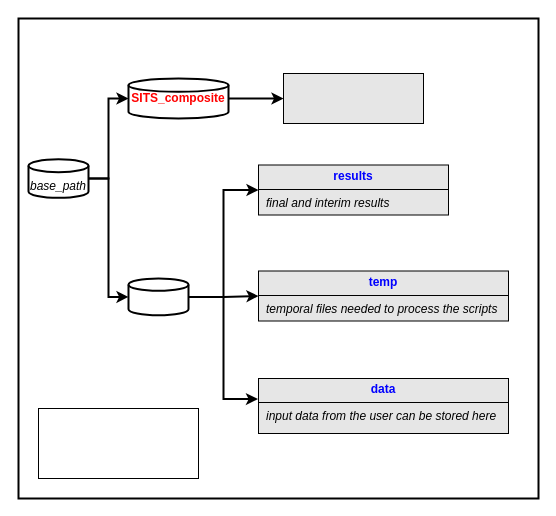
The diagram is 556 pixels wide and 516 high, and some of its shapes have lost their labels. The box of each missing label's shape, as (x1, y1, x2, y2) in pixels:
already existing recommended but flexible will be created fixed for process flow: (38, 408, 198, 478)
process: (127, 277, 189, 316)
SITS_composite.py main script: (282, 72, 424, 124)
